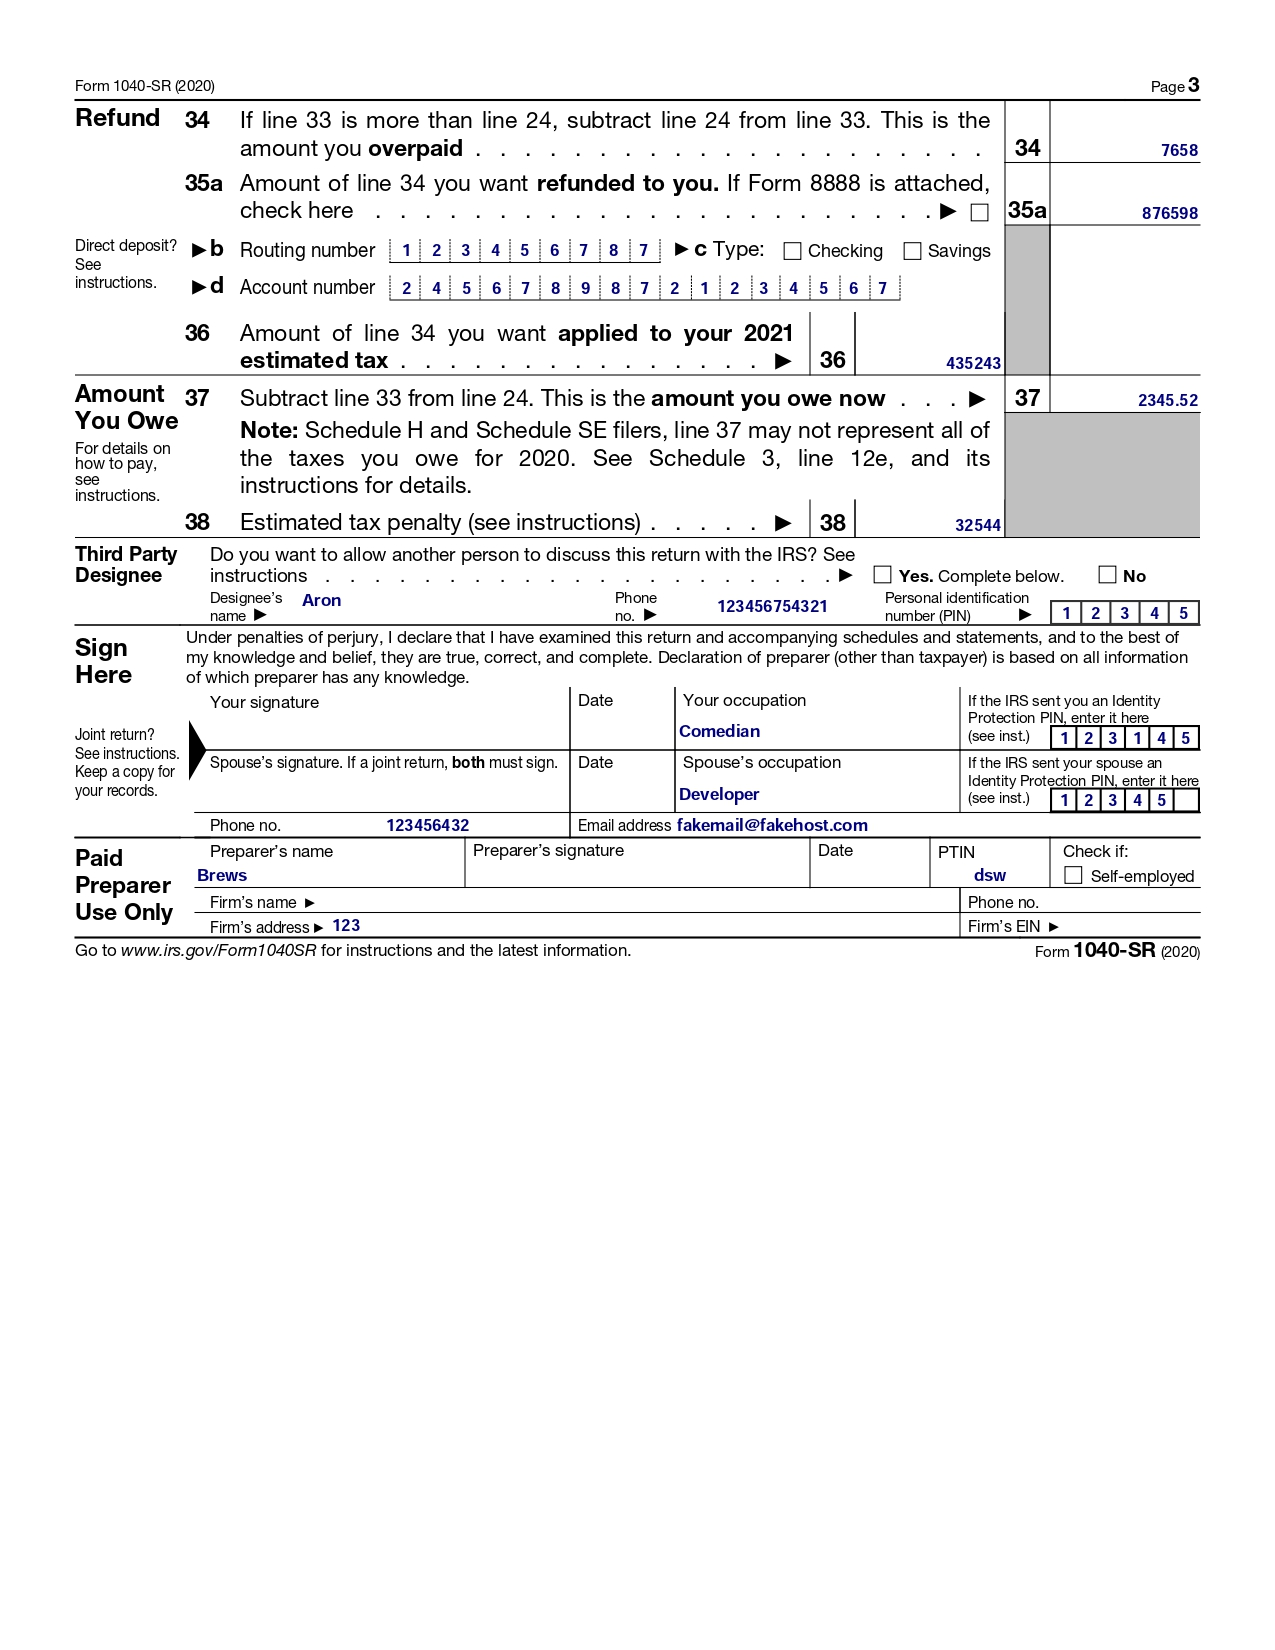form: (66, 536, 1227, 942)
table: (67, 96, 1251, 538)
